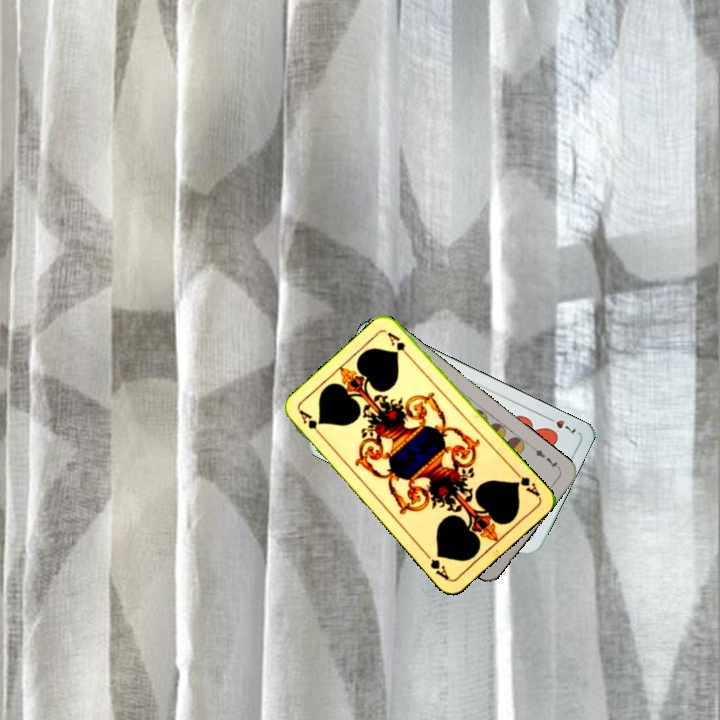E7: (528, 443, 563, 472)
GA: (295, 406, 326, 440), (510, 467, 542, 499)
H7: (542, 412, 579, 436)
